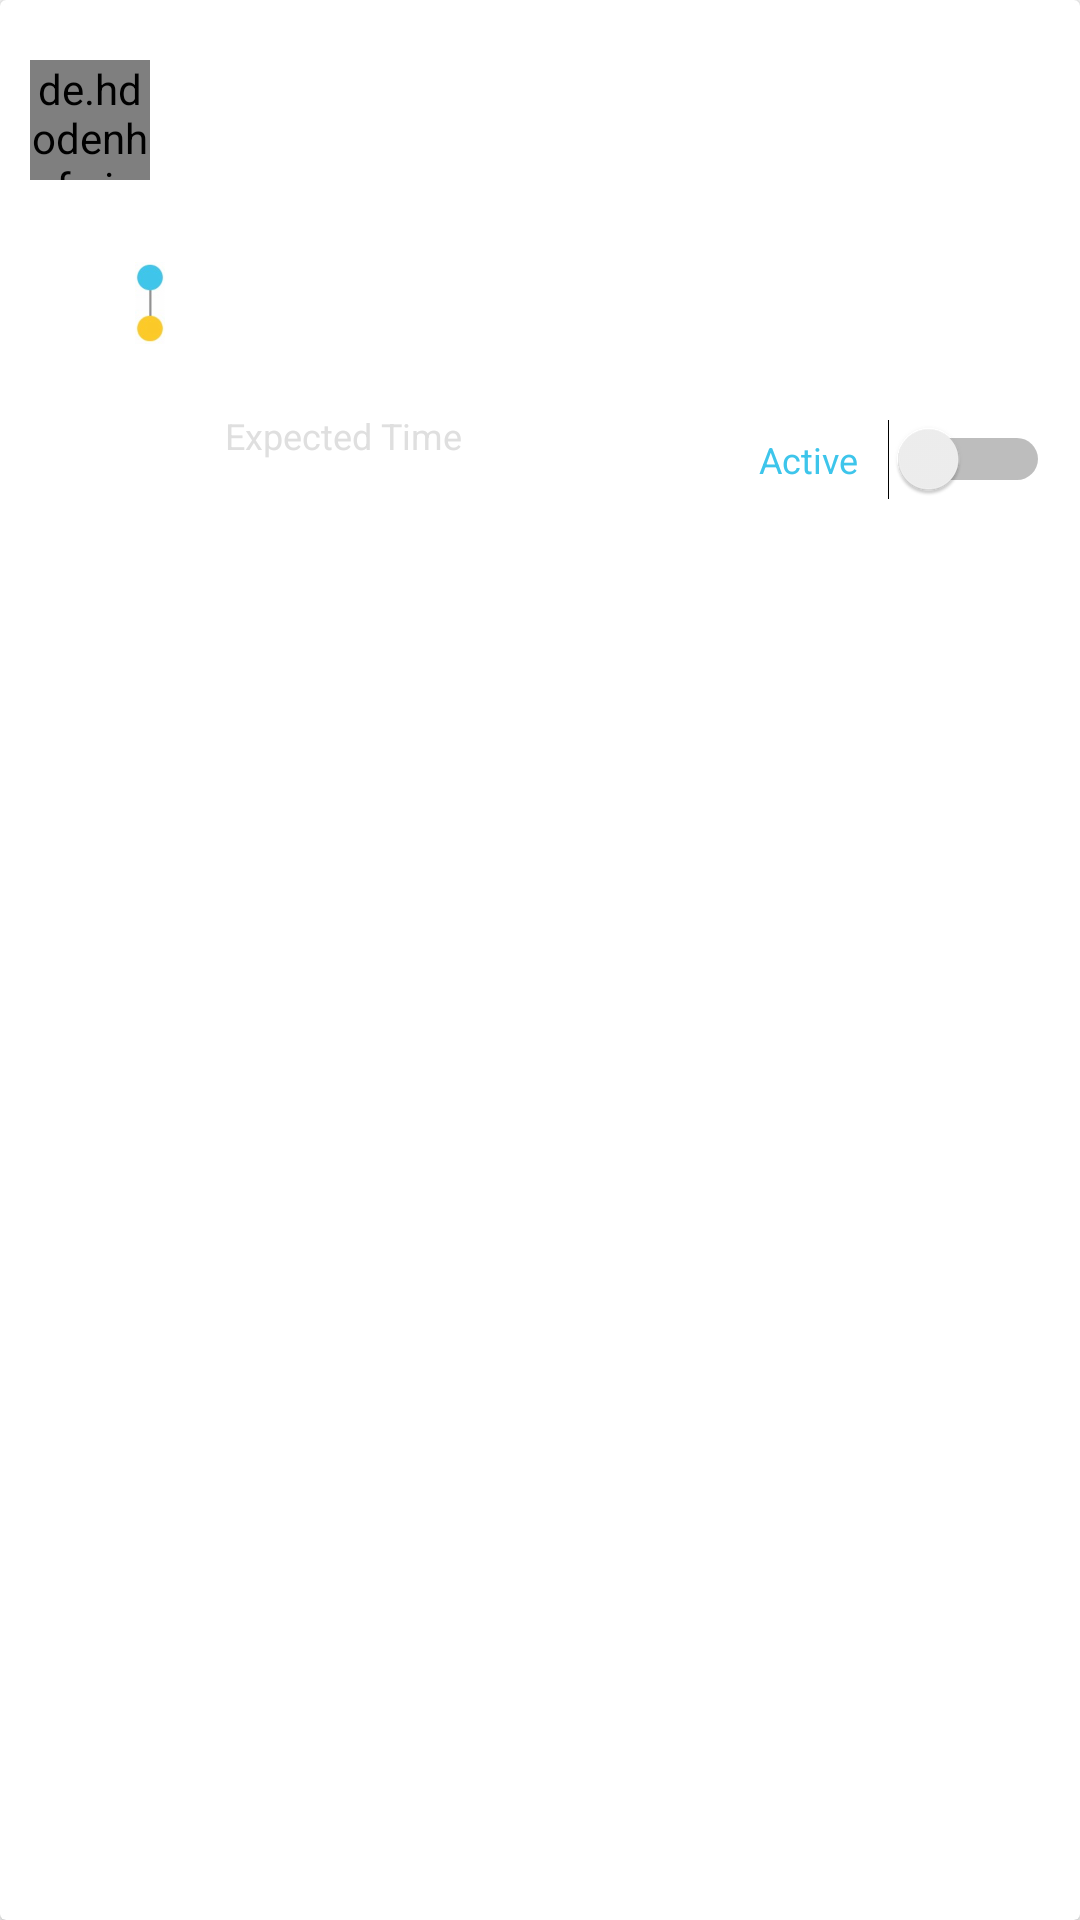

Locate icon controls on the screen. Image size 1080px x 1920px, boxes as BBox(x1, y1, x2, y2).
im points: BBox(136, 264, 164, 342)
